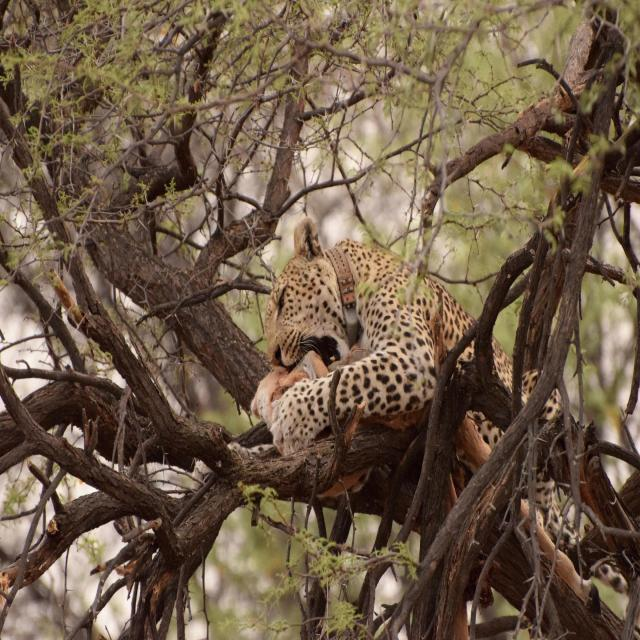Leopard: (241, 220, 562, 588)
